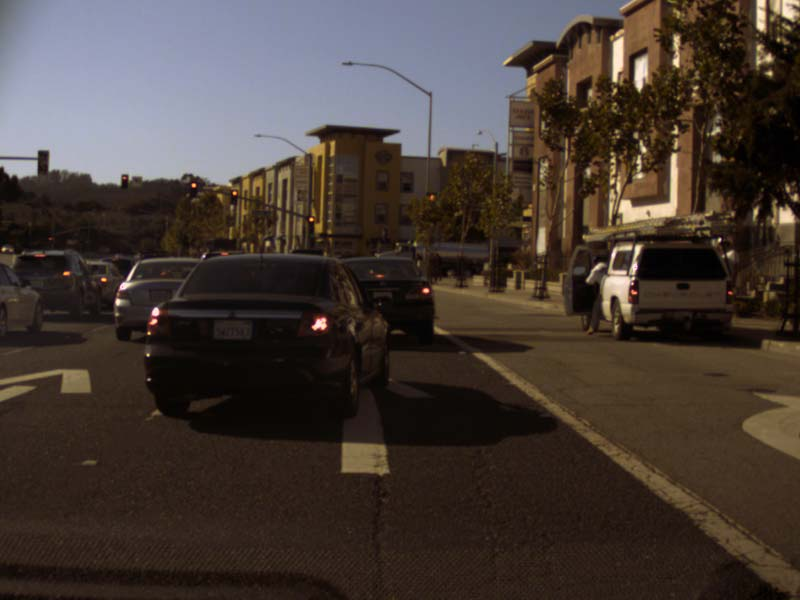Red: (307, 216, 314, 233), (230, 190, 237, 204), (190, 181, 196, 196), (121, 174, 127, 188)
